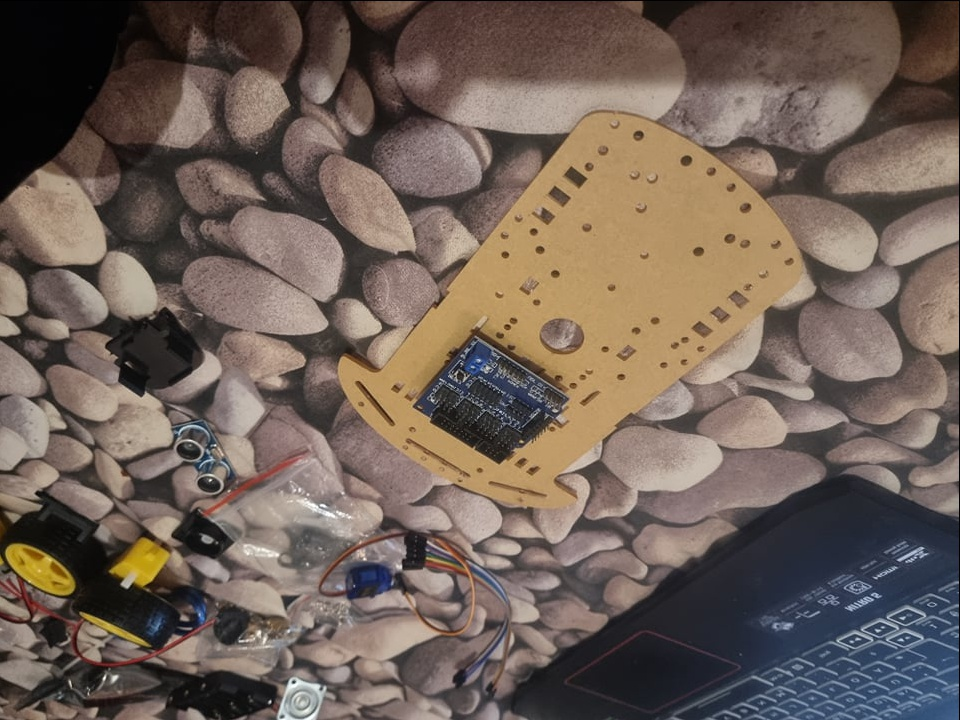5V EXPANSION: (410, 335, 571, 466)
BATTERY BOX: (164, 666, 277, 719)
SENSOR: (173, 421, 235, 494)
